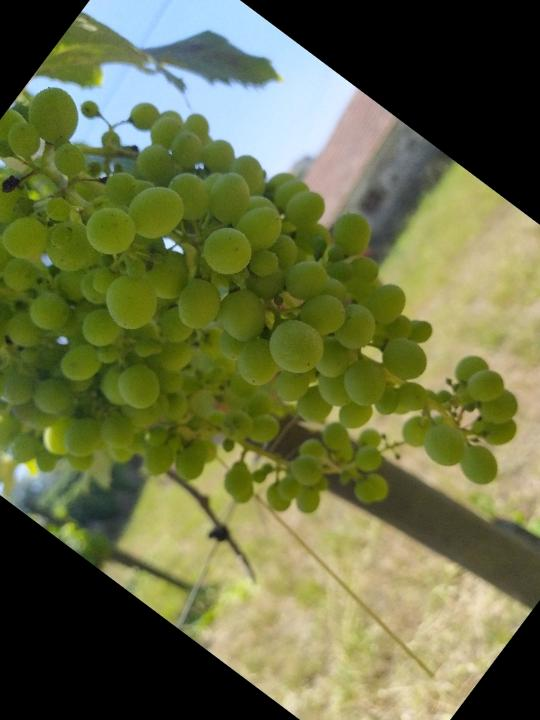grape: (0, 7, 540, 699)
